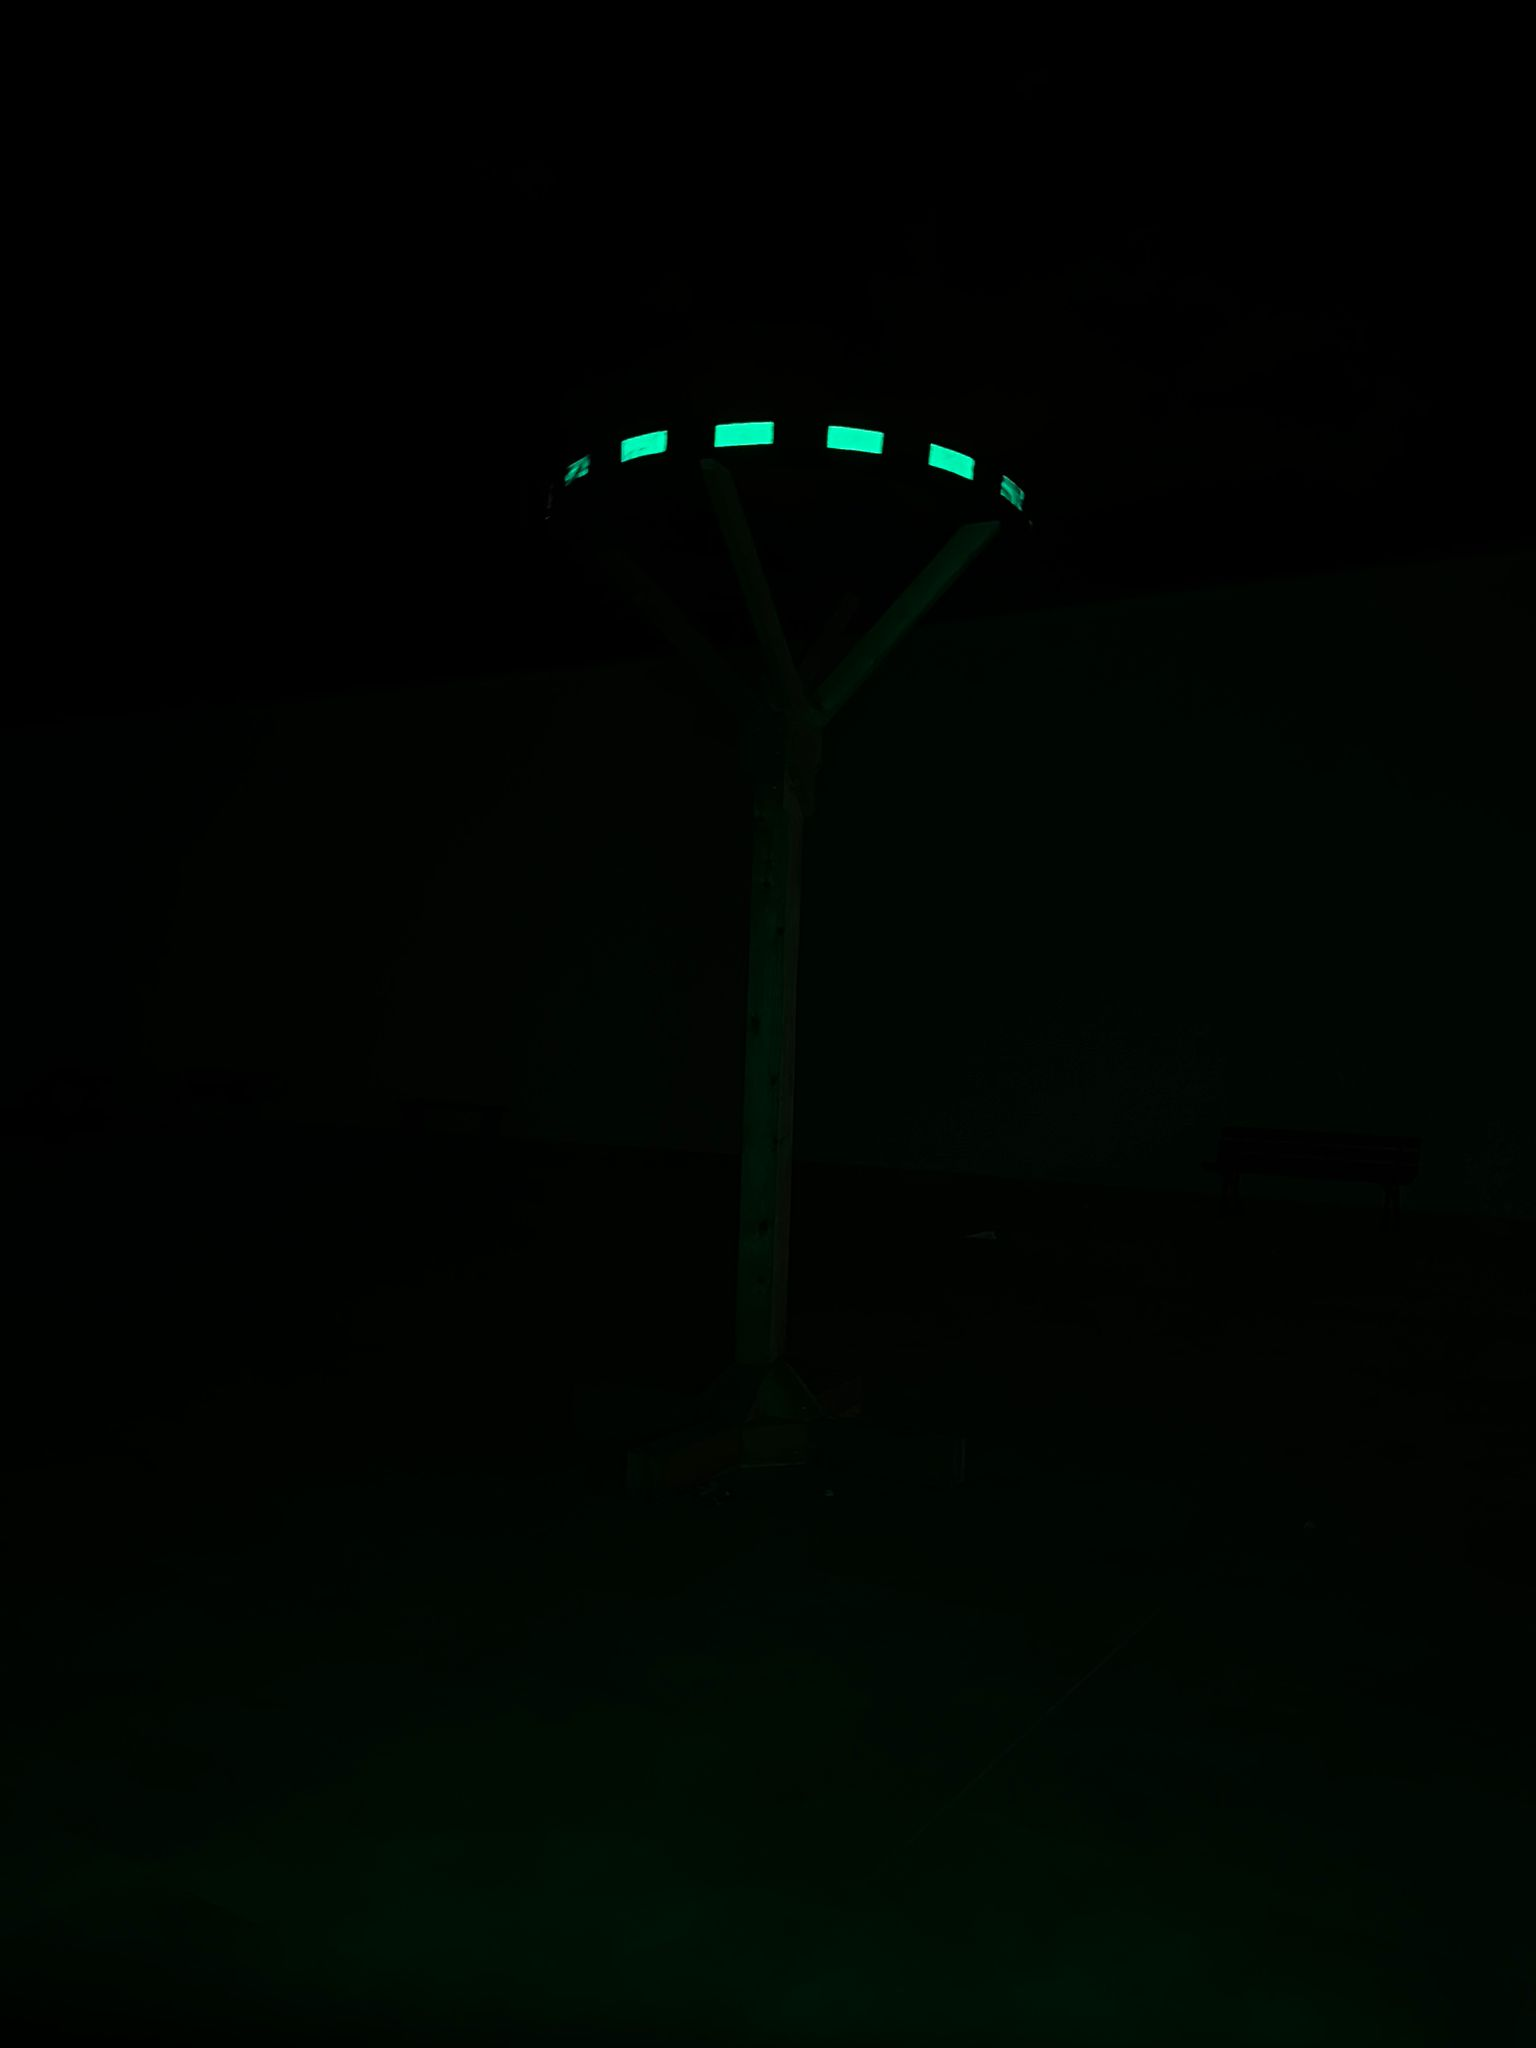hoop: (560, 419, 1029, 516)
